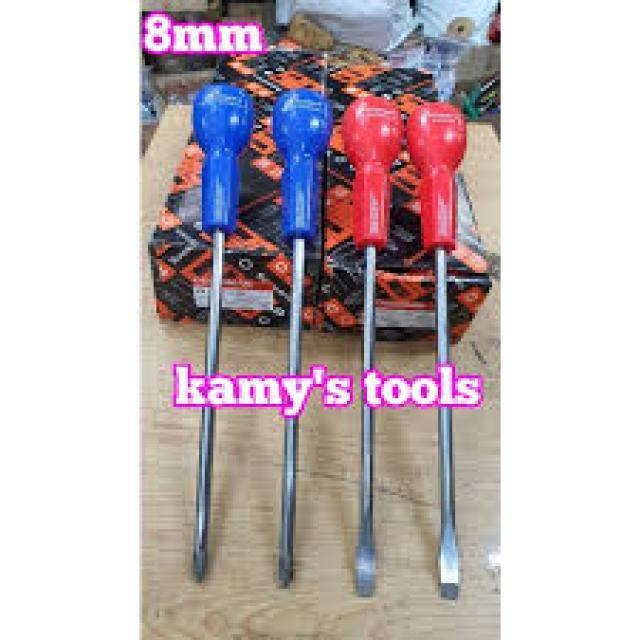screwdriver: (186, 83, 258, 584), (336, 94, 406, 603), (268, 86, 338, 594), (406, 98, 470, 596)
